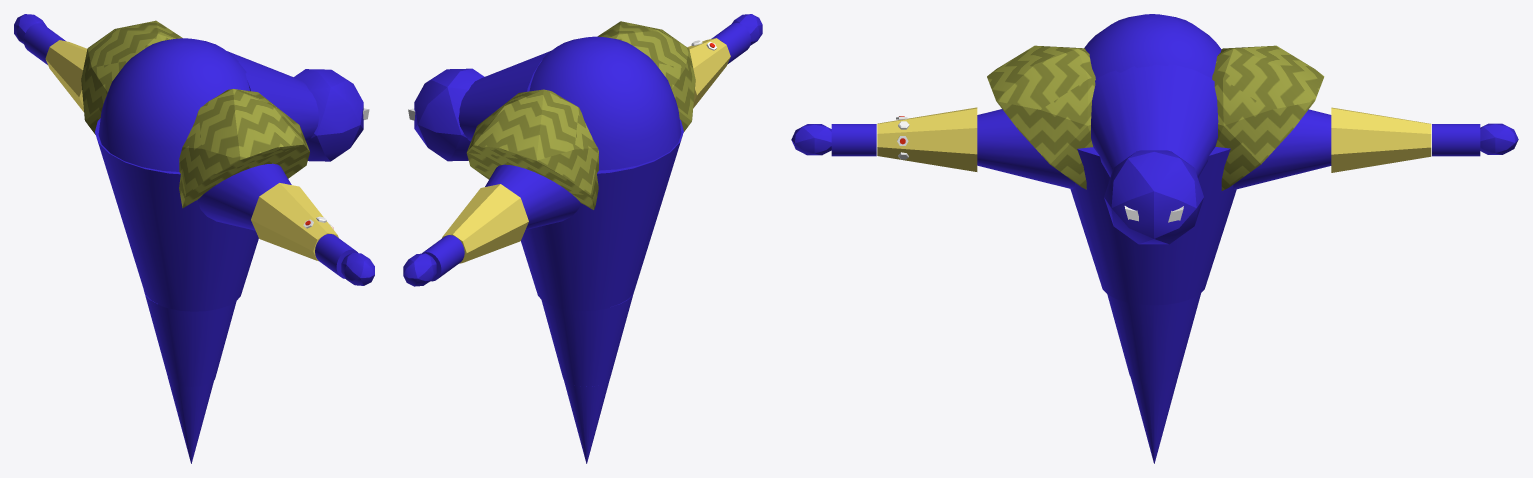
File: predator_prototype_merged.glb
3 renders of one model, left to right at view 1: azimuth 30°, elevation 25°; view 2: azimuth 150°, elevation 25°; view 3: azimuth 270°, elevation 25°, orthographic. The views are drawn at different scales.
Parts seen in each view (by area): view 1: mergedBlocks(Clone); view 2: mergedBlocks(Clone); view 3: mergedBlocks(Clone).
Boxes of the visible parts, <box> form: mergedBlocks(Clone): <box>14,14,374,463</box>; mergedBlocks(Clone): <box>403,14,762,463</box>; mergedBlocks(Clone): <box>791,14,1518,463</box>.
Size of the model in its own units: 3.02 by 4.84 by 7.27.
5 materials, 1 textured.
